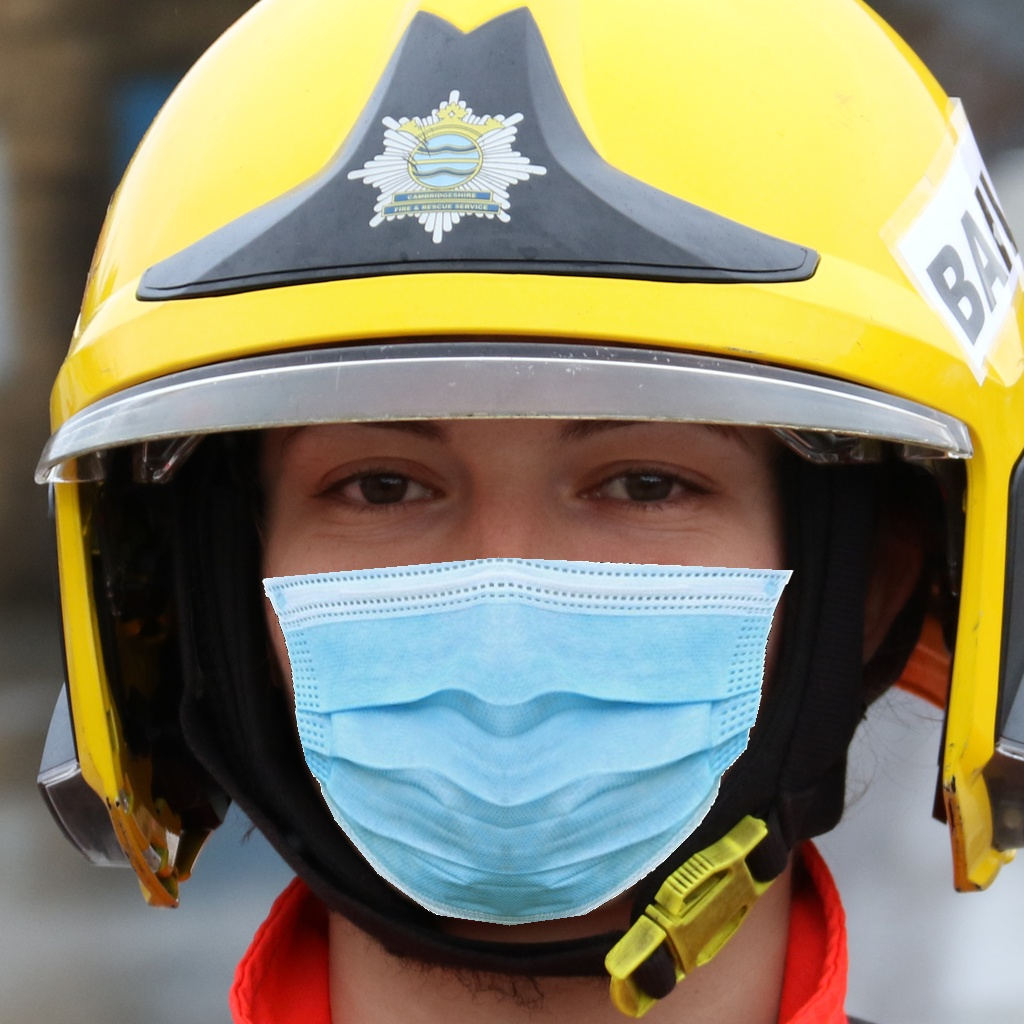Mask: (258, 376, 797, 929)
